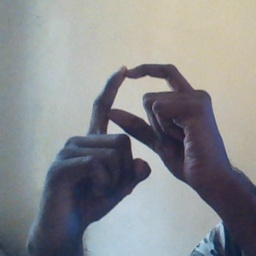D: (65, 57, 208, 181)
